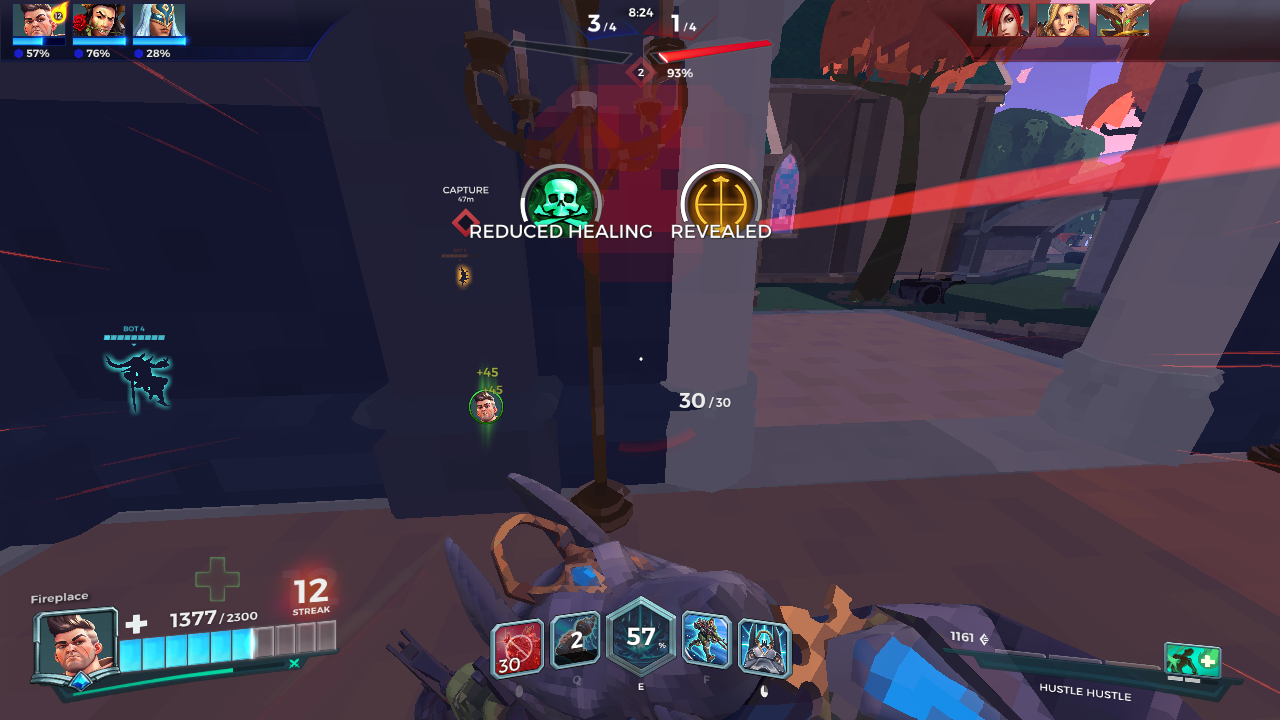model: (457, 261, 472, 290)
